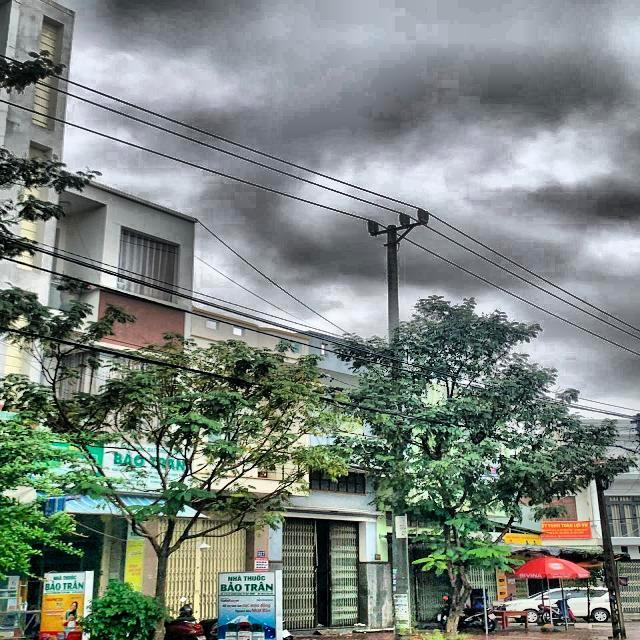crossarm: (372, 222, 424, 237)
pole: (387, 223, 413, 640)
wire: (4, 52, 640, 331), (4, 74, 640, 346), (0, 98, 640, 359)
